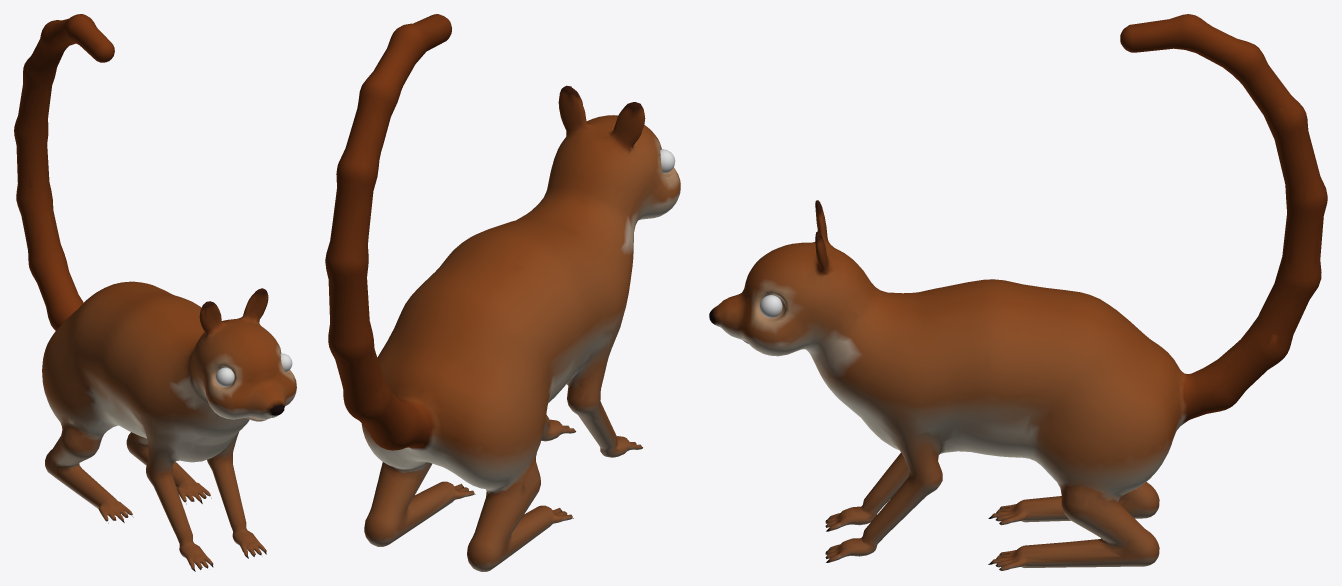
The model's file is squirrel.glb.
The picture shows the model from 3 angles, left to right: view 1: azimuth 30°, elevation 25°; view 2: azimuth 150°, elevation 25°; view 3: azimuth 270°, elevation 25°; orthographic projection. The views are drawn at different scales.
Visible parts, largest first — view 1: squirrel_body, squirrel_eyes; view 2: squirrel_body; view 3: squirrel_body.
Boxes of the visible parts, bbox=[...] form: squirrel_body: bbox=[14, 14, 296, 571]; squirrel_eyes: bbox=[215, 353, 292, 386]; squirrel_body: bbox=[325, 14, 680, 571]; squirrel_body: bbox=[709, 14, 1327, 570].
Size of the model in its own units: 0.07 by 0.2364 by 0.2506.
